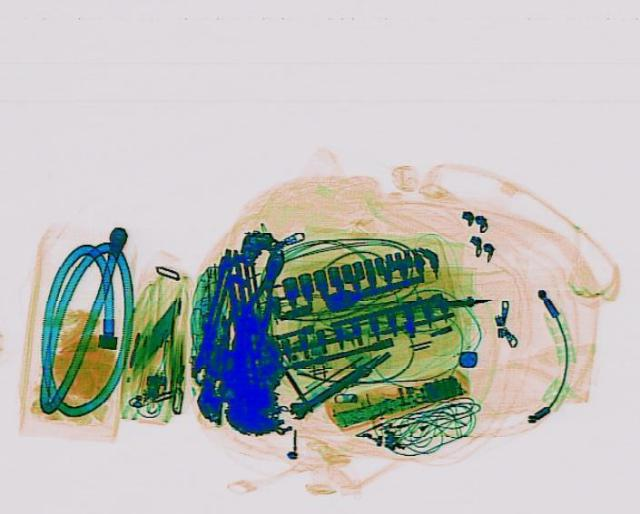Pliers: (224, 244, 292, 348)
Wrench: (283, 359, 372, 420)
